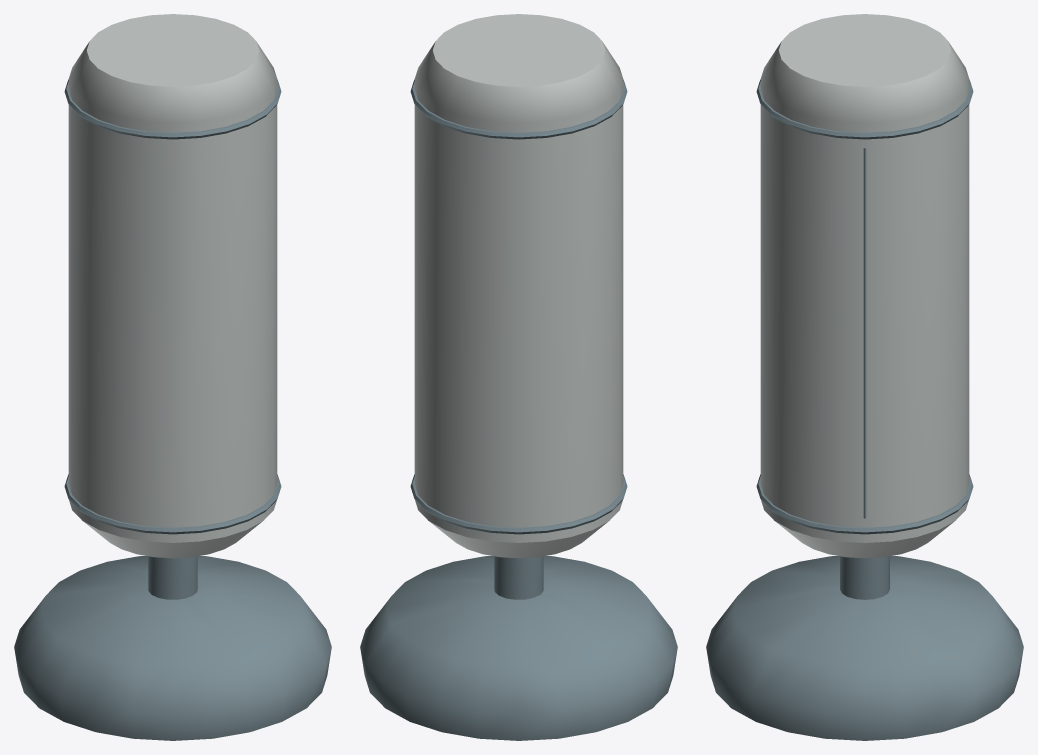
File: boxing-bag.glb
3 views of the same model, side by side, from view 1: azimuth 30°, elevation 25°; view 2: azimuth 150°, elevation 25°; view 3: azimuth 270°, elevation 25° (orthographic).
Parts seen in each view (by area): view 1: padded_bag, weighted_base, flexible_stem, reinforcement_band, reinforcement_band.001; view 2: padded_bag, weighted_base, flexible_stem, reinforcement_band, reinforcement_band.001; view 3: padded_bag, weighted_base, flexible_stem, reinforcement_band, reinforcement_band.001, seam.
Part boxes in pixels (x1,y1,x2,y2): padded_bag: [68, 14, 277, 558]; weighted_base: [14, 556, 331, 740]; flexible_stem: [148, 556, 197, 599]; reinforcement_band: [64, 474, 281, 534]; reinforcement_band.001: [64, 79, 281, 139]; padded_bag: [414, 14, 623, 558]; weighted_base: [360, 556, 677, 740]; flexible_stem: [494, 556, 543, 599]; reinforcement_band: [410, 474, 627, 534]; reinforcement_band.001: [410, 79, 627, 139]; padded_bag: [760, 14, 969, 558]; weighted_base: [706, 556, 1023, 740]; flexible_stem: [840, 556, 889, 599]; reinforcement_band: [756, 474, 973, 534]; reinforcement_band.001: [756, 79, 973, 139]; seam: [863, 148, 866, 518].
Size of the model in its own units: 0.7 by 1.52 by 0.7.
